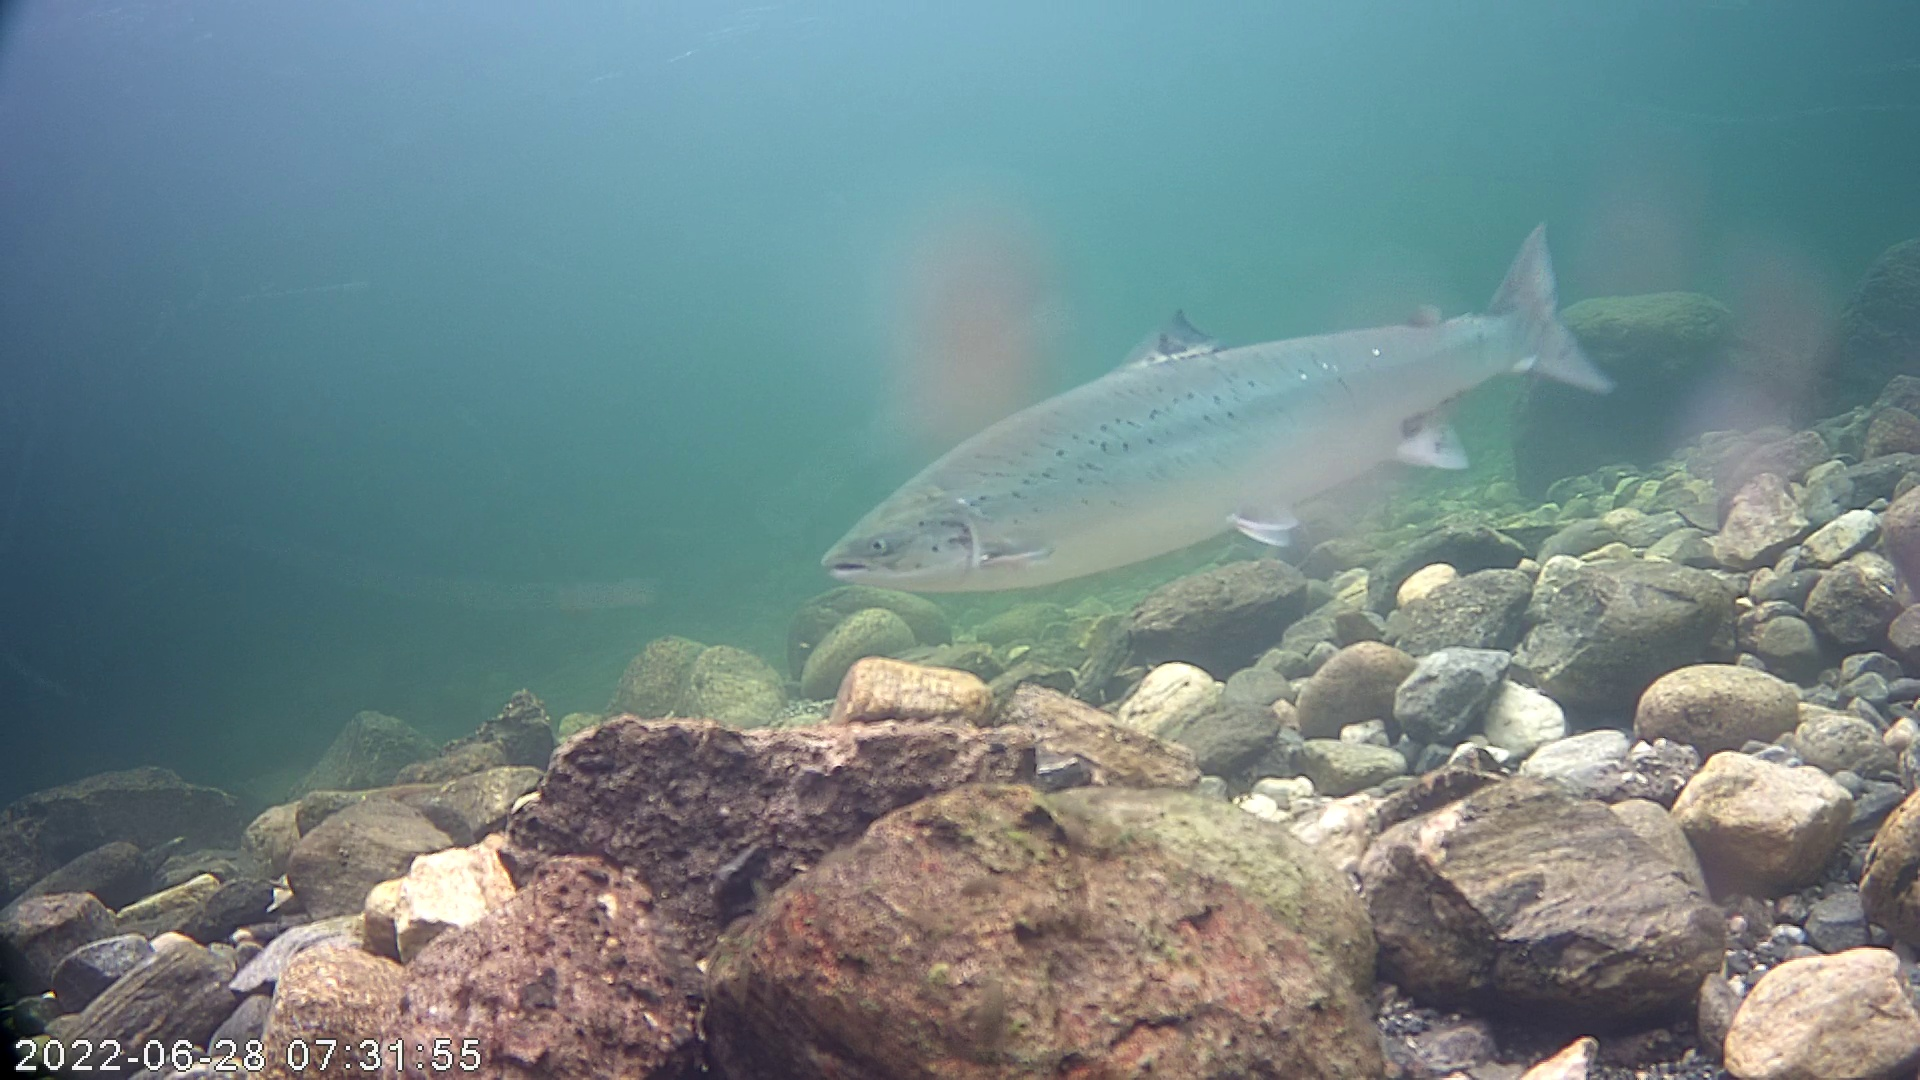salmon: (816, 194, 1636, 636)
